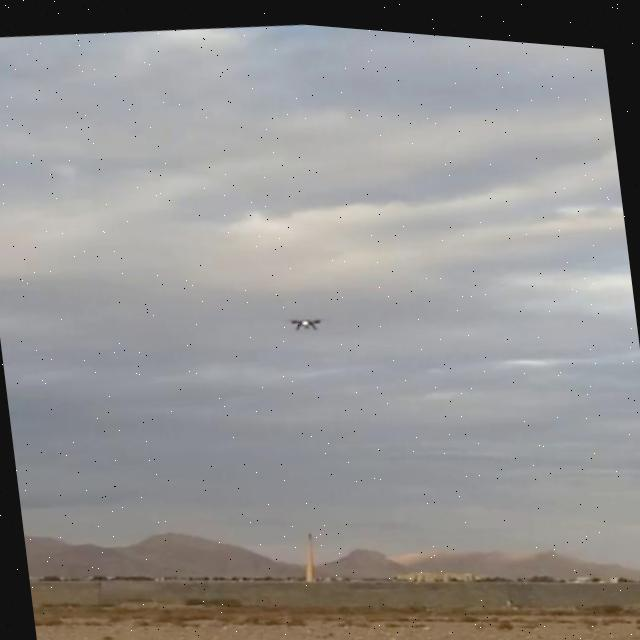drone: (282, 303, 330, 333)
